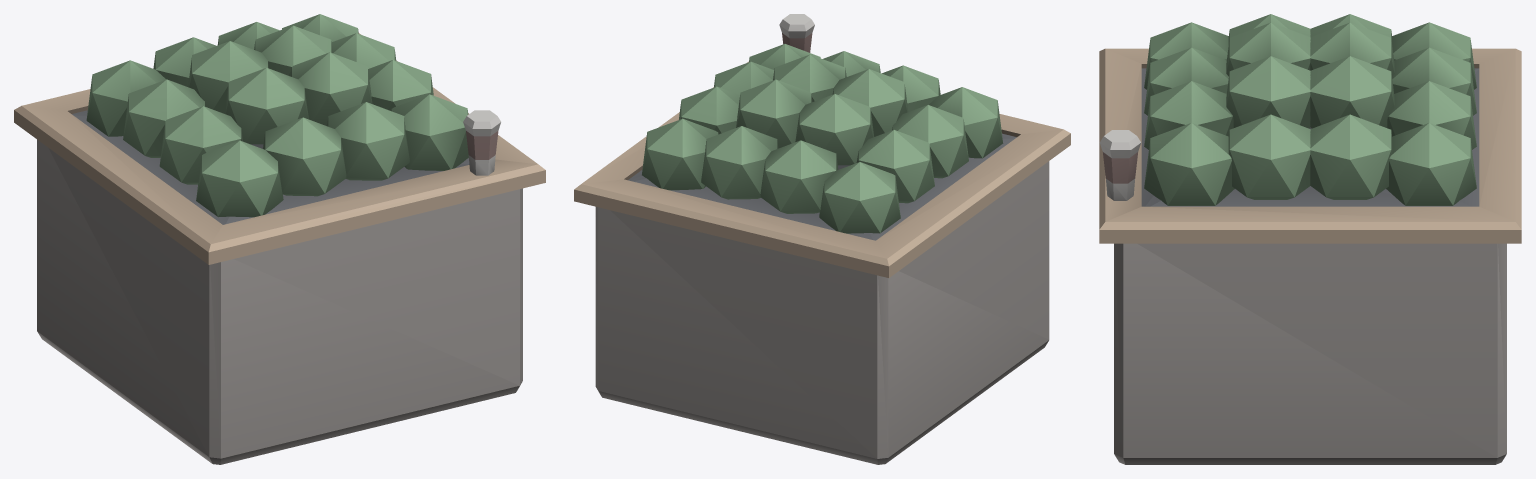
Rendered from planter.glb.
The picture shows the model from 3 angles, left to right: view 1: azimuth 30°, elevation 25°; view 2: azimuth 150°, elevation 25°; view 3: azimuth 270°, elevation 25°; orthographic projection. The views are drawn at different scales.
Parts seen in each view (by area): view 1: planter.001; view 2: planter.001; view 3: planter.001.
Part boxes in pixels (box(x1,y1,x2,y2)): planter.001: box(14, 14, 545, 464); planter.001: box(574, 14, 1070, 464); planter.001: box(1099, 14, 1521, 464).
Bounding box in the file's own units: 1 × 0.9008 × 1.
